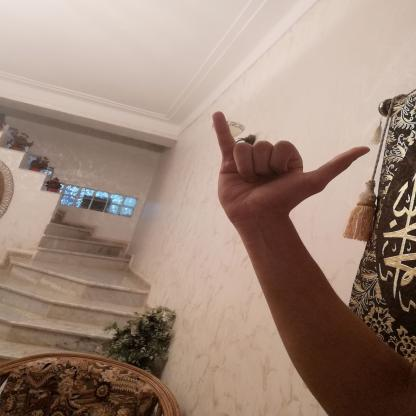YA: (198, 101, 380, 232)
